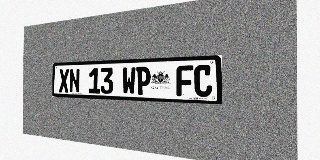1: (89, 68, 100, 94)
3: (101, 68, 113, 94)
C: (194, 65, 212, 97)
F: (176, 65, 193, 96)
N: (69, 68, 80, 93)
P: (136, 66, 151, 95)
W: (122, 67, 136, 95)
X: (59, 69, 69, 93)
